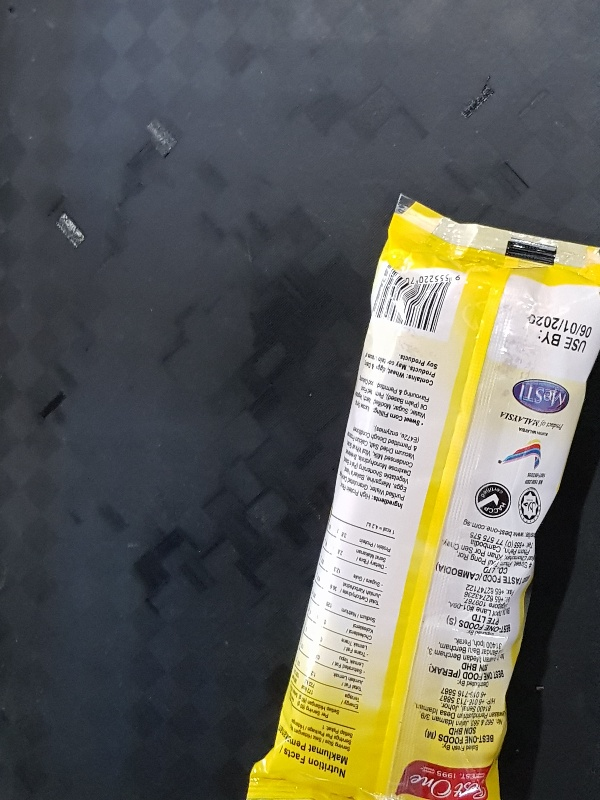Tinges Roll Sweet Corn: (244, 189, 600, 798)
